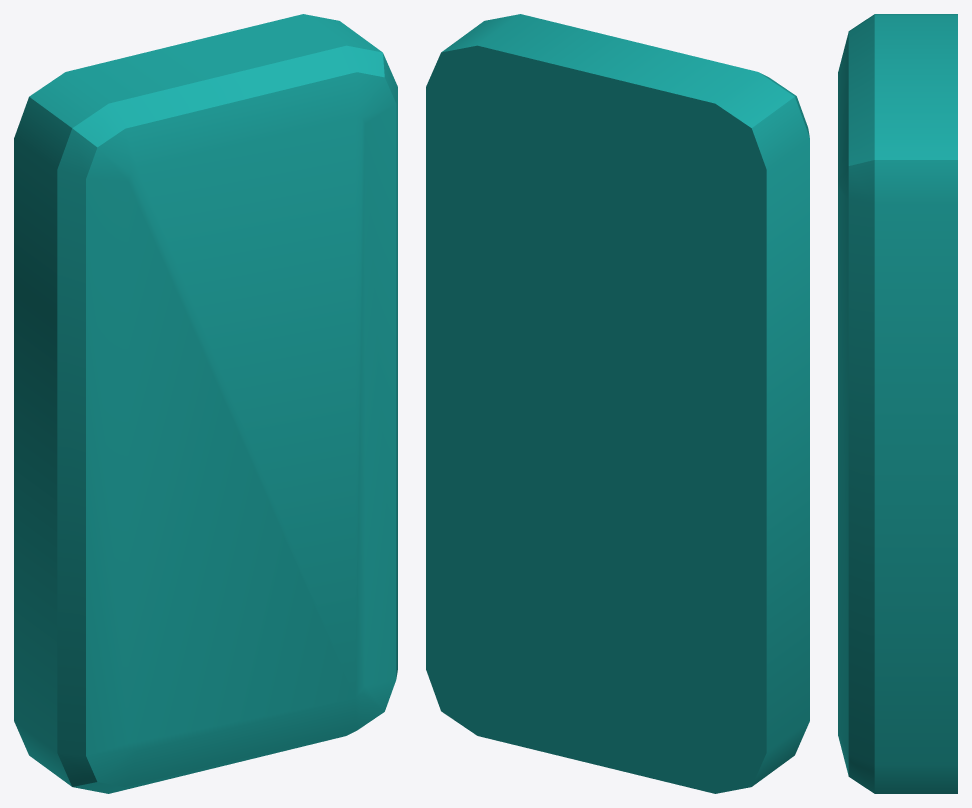
File: SM_ResearchButton.fbx
The picture shows the model from 3 angles, left to right: view 1: azimuth 30°, elevation 25°; view 2: azimuth 150°, elevation 25°; view 3: azimuth 270°, elevation 25°; orthographic projection. The views are drawn at different scales.
Visible parts, largest first — view 1: ResearchButton; view 2: ResearchButton; view 3: ResearchButton.
Part boxes in pixels (left/top/right/bottom): ResearchButton: left=14, top=14, right=397, bottom=793; ResearchButton: left=426, top=14, right=809, bottom=793; ResearchButton: left=838, top=14, right=957, bottom=793.
Bounding box in the file's own units: 0.2123 × 0.4109 × 0.0672.
1 material, 1 textured.
